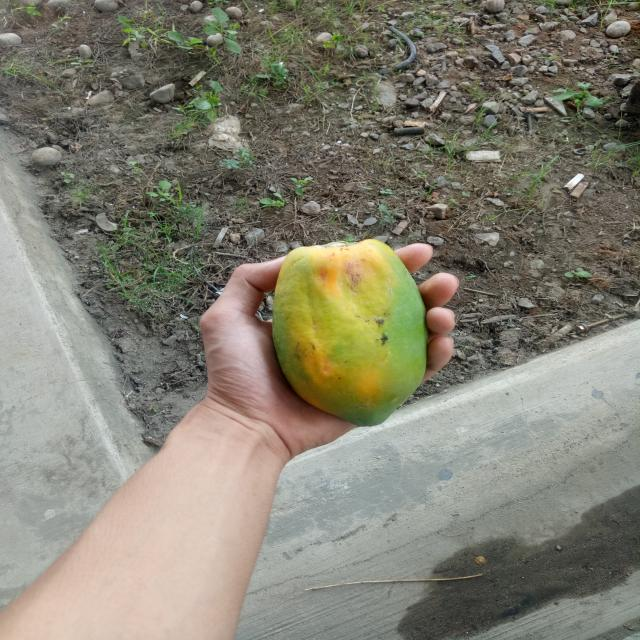Pepaya rippen: (269, 230, 435, 432)
